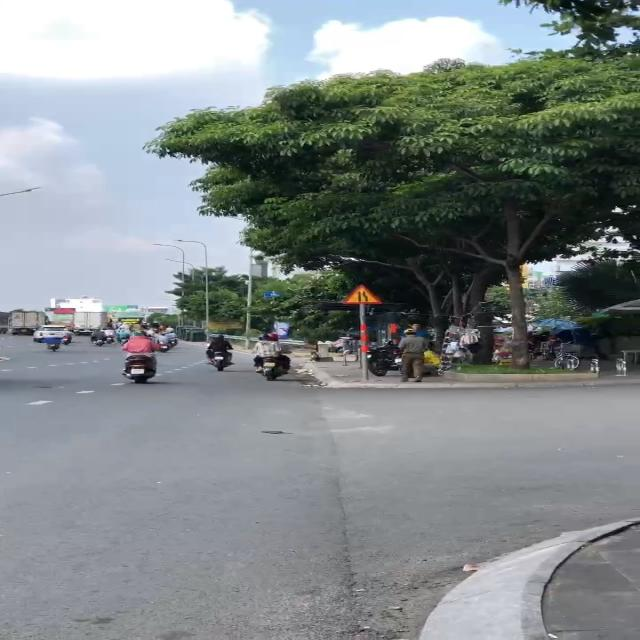Bien bao duong bi thu hep: (338, 282, 389, 306)
